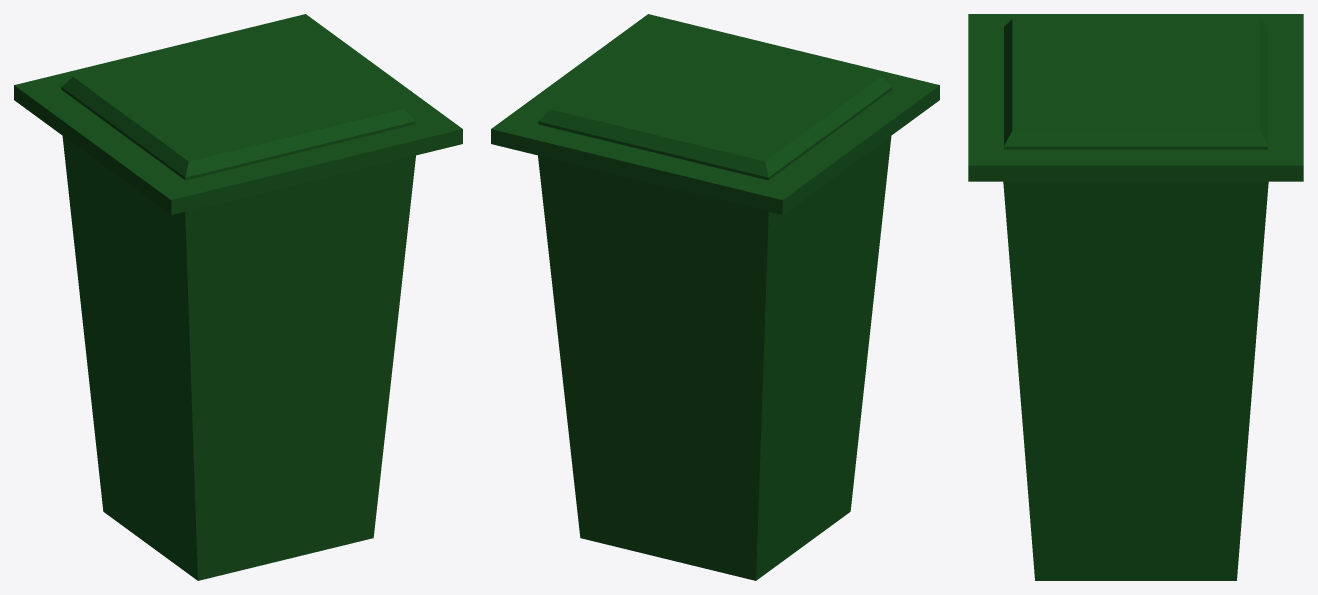
Rendered from cube.246_lev3.glb.
3 renders of one model, left to right at view 1: azimuth 30°, elevation 25°; view 2: azimuth 150°, elevation 25°; view 3: azimuth 270°, elevation 25°, orthographic. The views are drawn at different scales.
Visible parts, largest first — view 1: cube.246_lev3; view 2: cube.246_lev3; view 3: cube.246_lev3.
Boxes of the visible parts, bbox=[...] form: cube.246_lev3: bbox=[14, 14, 462, 580]; cube.246_lev3: bbox=[491, 14, 939, 580]; cube.246_lev3: bbox=[968, 14, 1303, 580].
Size of the model in its own units: 0.2844 by 0.4024 by 0.2654.
